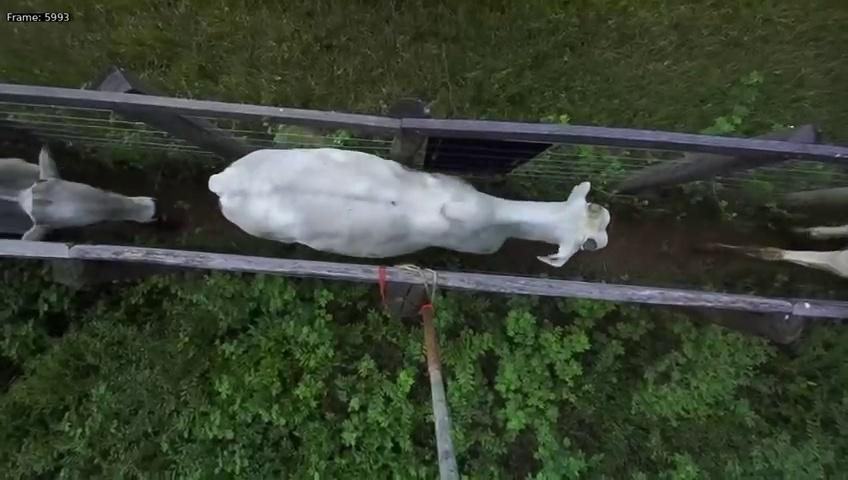cattle: (198, 140, 611, 266)
